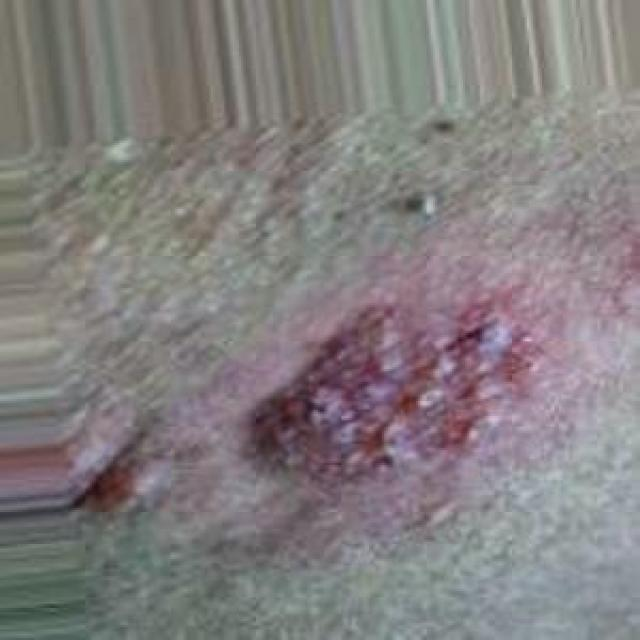Shingles: (250, 298, 544, 490)
